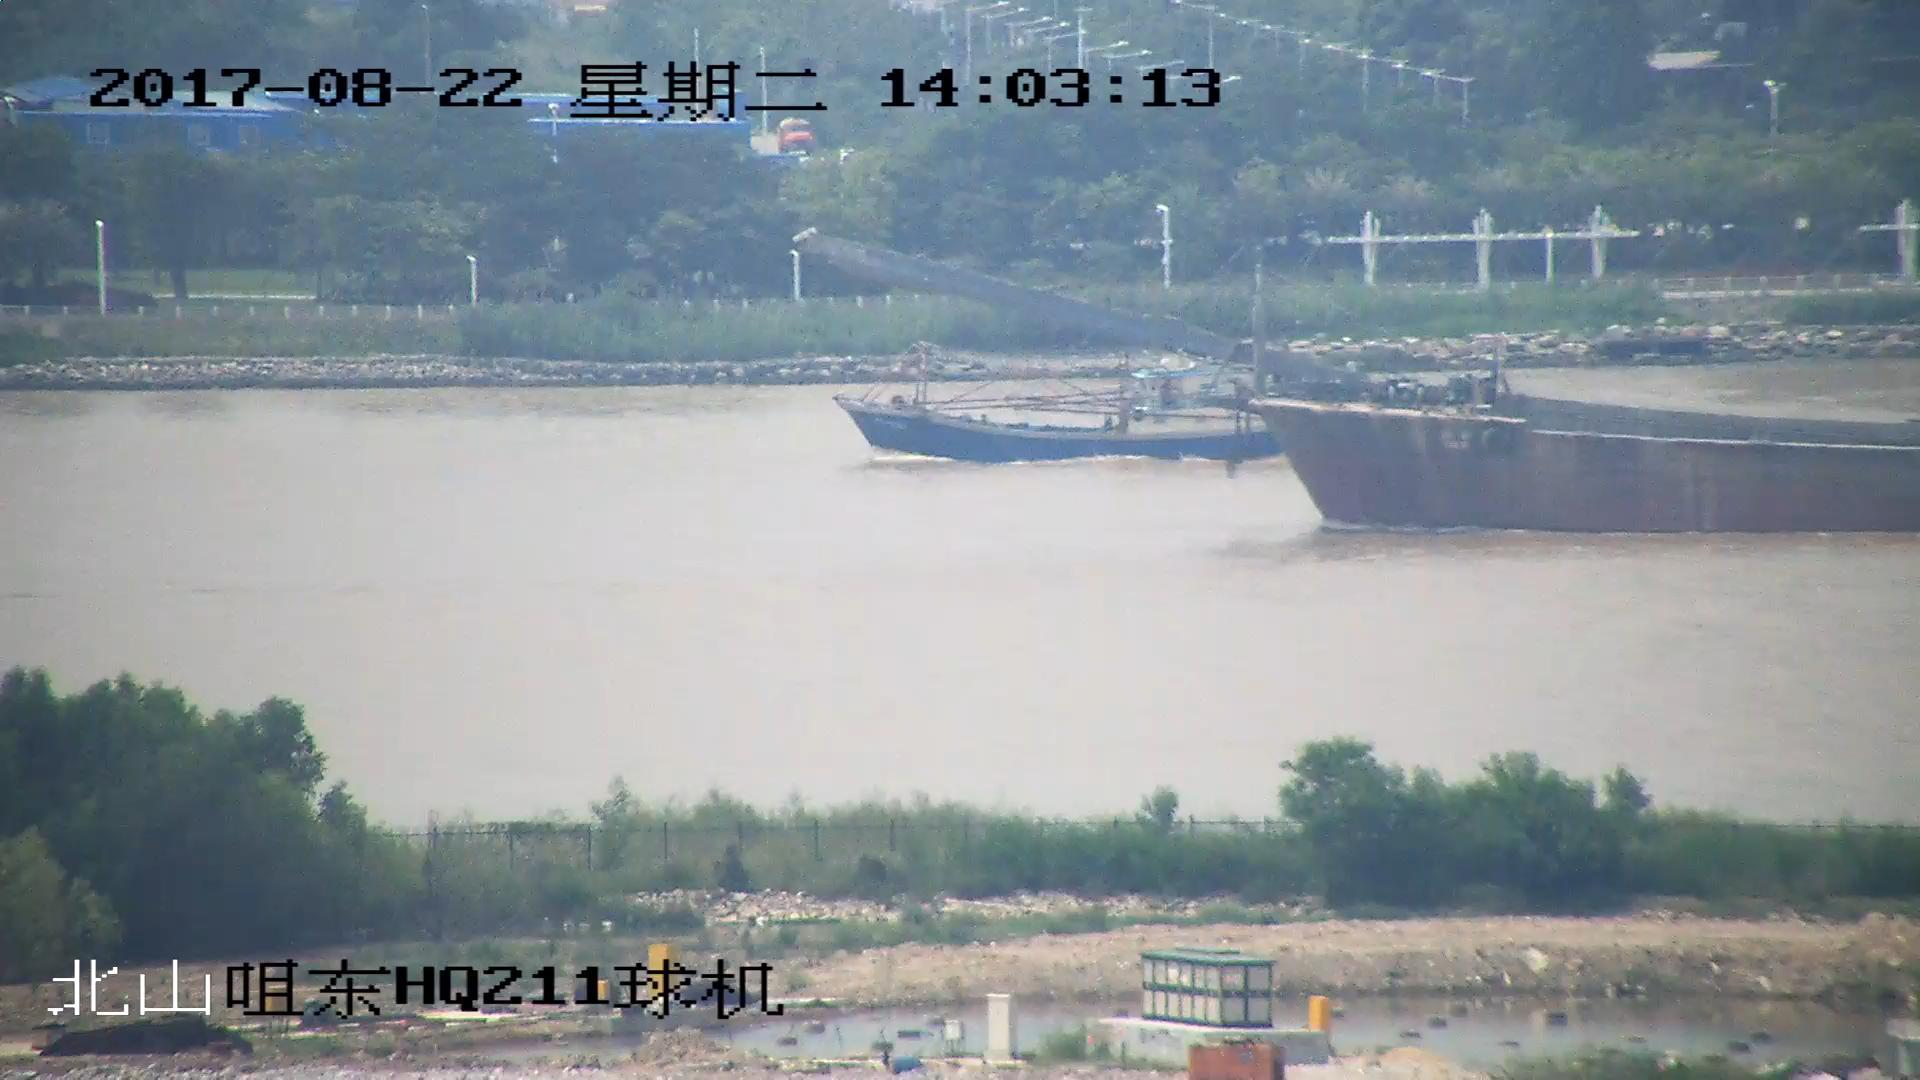Ship: (800, 232, 1920, 537), (837, 343, 1273, 468)
